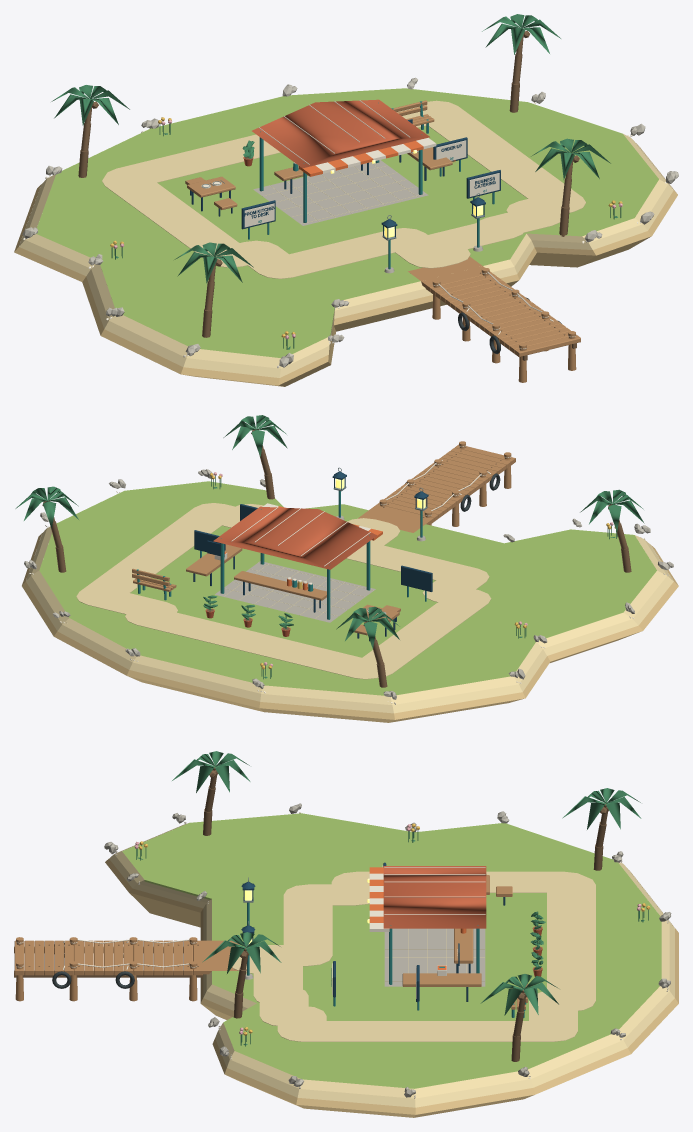
Rendered from catering.glb.
3 views of the same model, one above another, from view 1: azimuth 30°, elevation 25°; view 2: azimuth 150°, elevation 25°; view 3: azimuth 270°, elevation 25° (orthographic). The views are drawn at different scales.
Visible parts, largest first — view 1: static_grass, static_sand, static_wood, static_stone, static_sandEdge, occluder_catering_canopy_terracotta, occluder_catering_tree_4_leaf, occluder_catering_tree_16_leaf, occluder_catering_tree_12_leaf, occluder_catering_tree_8_leaf, occluder_catering_canopy_ivory, static_teal (+6 smaller); view 2: static_grass, static_sand, static_wood, static_sandEdge, occluder_catering_canopy_terracotta, static_stone, static_teal, occluder_catering_tree_12_leaf, occluder_catering_tree_16_leaf, occluder_catering_tree_8_leaf, occluder_catering_tree_4_leaf, static_leaf (+2 smaller); view 3: static_grass, static_sand, static_wood, static_sandEdge, occluder_catering_canopy_terracotta, static_stone, occluder_catering_canopy_ivory, occluder_catering_tree_4_leaf, occluder_catering_tree_8_leaf, occluder_catering_tree_16_leaf, occluder_catering_tree_12_leaf, static_darkWood (+5 smaller).
Part boxes in pixels (x1,y1,x2,y2): static_grass: (36,88,658,357); static_sand: (19,100,673,377); static_wood: (185,100,580,382); static_stone: (22,77,678,367); static_sandEdge: (14,143,677,386); occluder_catering_canopy_terracotta: (252,99,429,168); occluder_catering_tree_4_leaf: (174,242,253,283); occluder_catering_tree_16_leaf: (531,138,610,179); occluder_catering_tree_12_leaf: (482,14,560,54); occluder_catering_tree_8_leaf: (51,85,129,125); occluder_catering_canopy_ivory: (258,100,436,173); static_teal: (259,101,479,269); static_grass: (39,481,656,695); static_sand: (26,503,673,713); static_wood: (132,441,515,635); static_sandEdge: (22,533,678,722); occluder_catering_canopy_terracotta: (213,506,376,569); static_stone: (24,469,673,699); static_teal: (136,490,422,619); occluder_catering_tree_12_leaf: (15,486,78,528); occluder_catering_tree_16_leaf: (223,415,287,457); occluder_catering_tree_8_leaf: (336,606,399,648); occluder_catering_tree_4_leaf: (580,489,644,531); static_leaf: (203,475,617,679); static_grass: (122,813,661,1088); static_sand: (109,823,674,1107); static_wood: (14,875,527,1009); static_sandEdge: (105,859,678,1117); occluder_catering_canopy_terracotta: (383,866,486,928); static_stone: (104,803,671,1097); occluder_catering_canopy_ivory: (369,867,485,931); occluder_catering_tree_4_leaf: (172,751,250,792); occluder_catering_tree_8_leaf: (562,788,641,829); occluder_catering_tree_16_leaf: (202,932,281,973); occluder_catering_tree_12_leaf: (480,974,558,1015); static_darkWood: (14,927,541,977).
Size of the model in its own units: 29.08 by 5.37 by 27.8.
